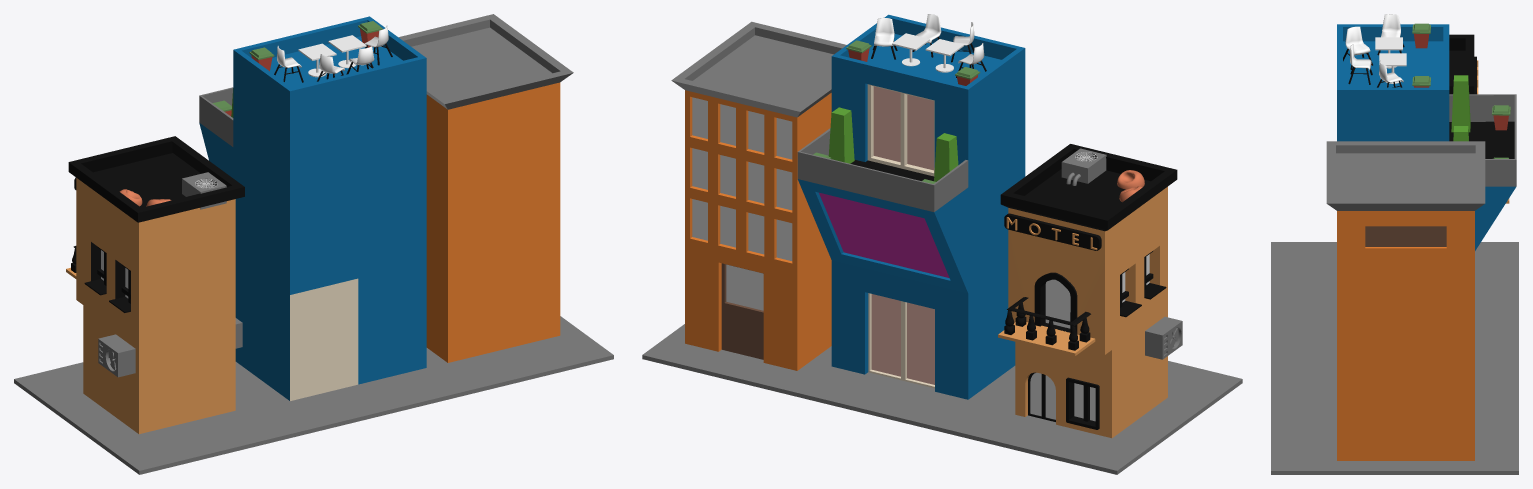
File: houses.fbx
The picture shows the model from 3 angles, left to right: view 1: azimuth 30°, elevation 25°; view 2: azimuth 150°, elevation 25°; view 3: azimuth 270°, elevation 25°; orthographic projection.
Parts seen in each view (by area): view 1: Cube.123, Cube.122, Cube.130, Plane.050, Cube.131, Plane.131, Plane.130, Cube.134; view 2: Cube.123, Cube.122, Cube.130, Plane.050, Cube.134, Cube.131, Plane.129, Plane.131, Cube.127, Plane.130; view 3: Cube.122, Plane.050, Cube.123, Cube.134, Plane.131, Cube.130, Plane.130.
Part boxes in pixels (x1=…): Cube.123: x1=199, y1=16, x2=426, y2=400; Cube.122: x1=398, y1=14, x2=573, y2=362; Cube.130: x1=66, y1=136, x2=244, y2=434; Plane.050: x1=14, y1=316, x2=613, y2=474; Cube.131: x1=98, y1=172, x2=242, y2=377; Plane.131: x1=274, y1=25, x2=392, y2=82; Plane.130: x1=298, y1=35, x2=366, y2=77; Cube.134: x1=212, y1=21, x2=382, y2=117; Cube.123: x1=797, y1=14, x2=1025, y2=399; Cube.122: x1=671, y1=21, x2=846, y2=370; Cube.130: x1=998, y1=144, x2=1177, y2=438; Plane.050: x1=642, y1=324, x2=1242, y2=474; Cube.134: x1=813, y1=40, x2=980, y2=183; Cube.131: x1=1061, y1=148, x2=1182, y2=359; Plane.129: x1=1004, y1=251, x2=1153, y2=421; Plane.131: x1=871, y1=14, x2=986, y2=78; Cube.127: x1=1004, y1=213, x2=1101, y2=250; Plane.130: x1=892, y1=33, x2=963, y2=72; Cube.122: x1=1326, y1=141, x2=1485, y2=460; Plane.050: x1=1271, y1=242, x2=1518, y2=474; Cube.123: x1=1337, y1=24, x2=1516, y2=250; Cube.134: x1=1412, y1=23, x2=1510, y2=158; Plane.131: x1=1343, y1=14, x2=1404, y2=87; Cube.130: x1=1449, y1=34, x2=1509, y2=203; Plane.130: x1=1375, y1=37, x2=1406, y2=83.
Bounding box in the file's own units: 1.75 × 1.17 × 0.801.
